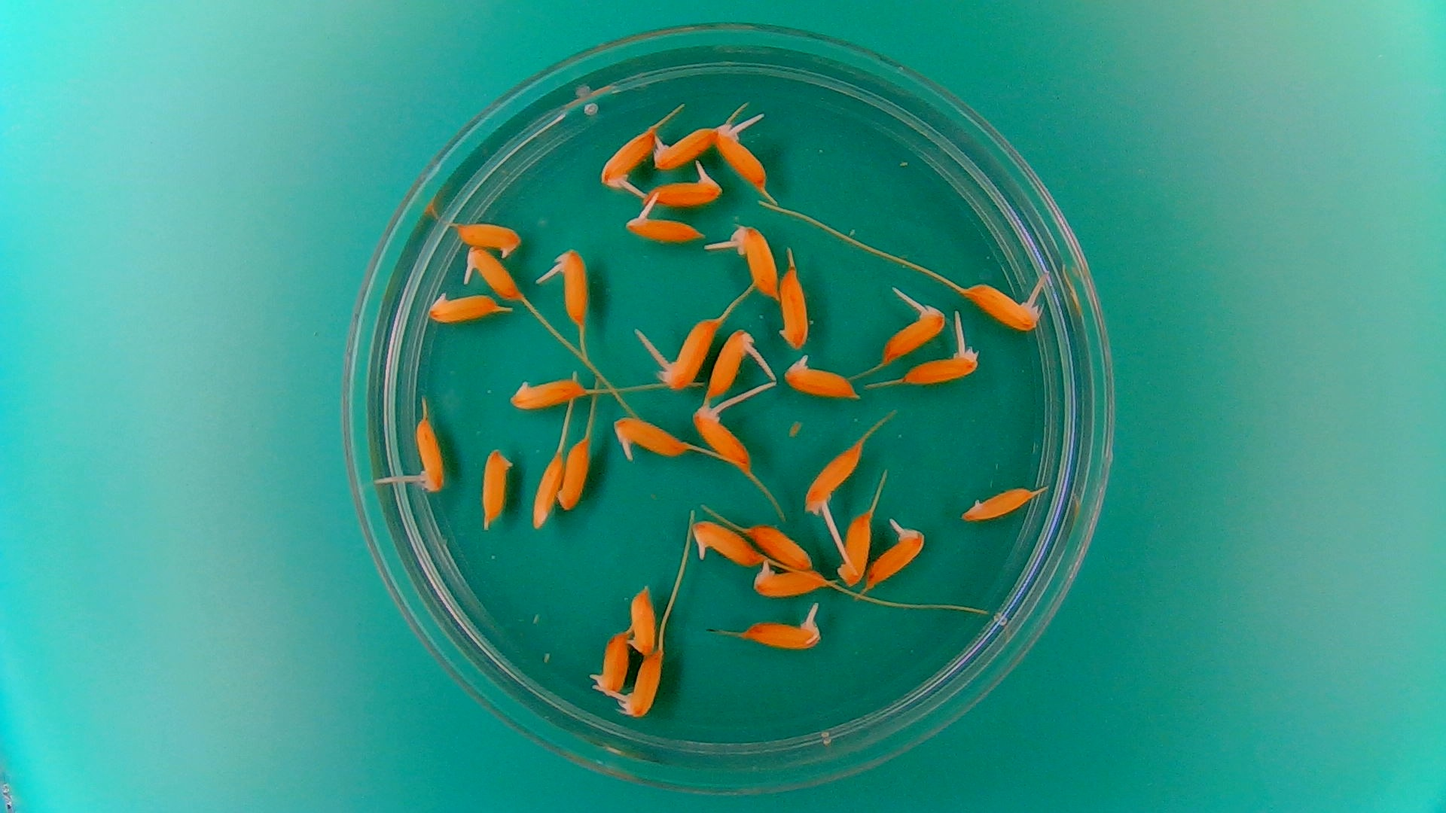no: (505, 370, 590, 412), (775, 266, 813, 352), (960, 483, 1039, 524), (746, 522, 816, 568), (834, 507, 875, 584), (477, 443, 515, 526), (423, 287, 505, 325), (453, 217, 525, 258), (530, 452, 566, 530), (556, 435, 591, 513), (627, 581, 659, 655)
yes: (657, 312, 721, 387), (712, 120, 773, 196), (807, 438, 865, 513), (690, 406, 754, 473), (959, 282, 1042, 333), (597, 122, 656, 193), (732, 222, 782, 300), (868, 522, 924, 589), (611, 414, 690, 461), (463, 246, 525, 305), (880, 309, 947, 363), (685, 519, 763, 565), (782, 355, 861, 400), (650, 122, 720, 172), (708, 325, 755, 396), (646, 165, 725, 207), (902, 344, 982, 385), (621, 205, 704, 244), (624, 644, 665, 720), (554, 246, 590, 327), (749, 562, 828, 598), (749, 613, 822, 649), (595, 627, 630, 695), (414, 413, 444, 492)
